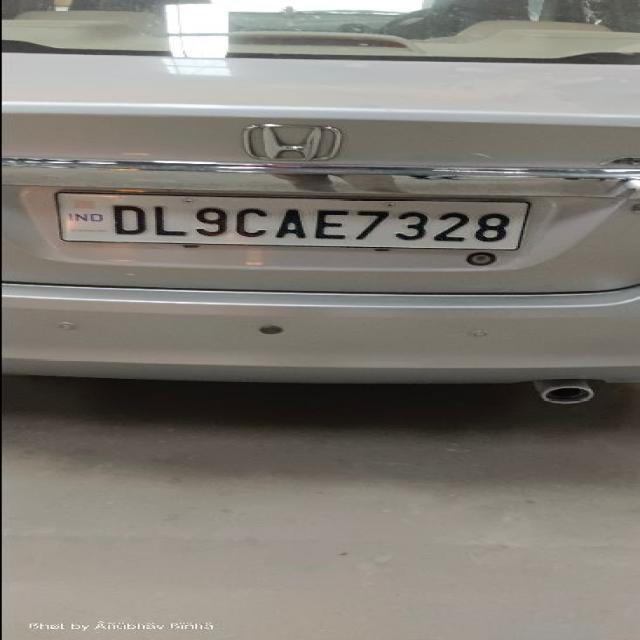license_plate: (54, 189, 532, 251)
